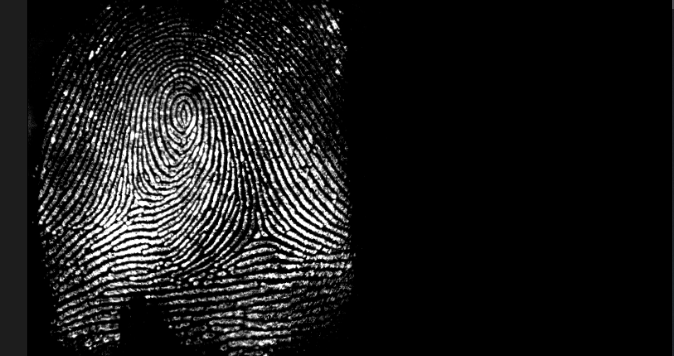deltas: (110, 167, 160, 225), (233, 208, 286, 259)
nucleo: (155, 87, 205, 136)
